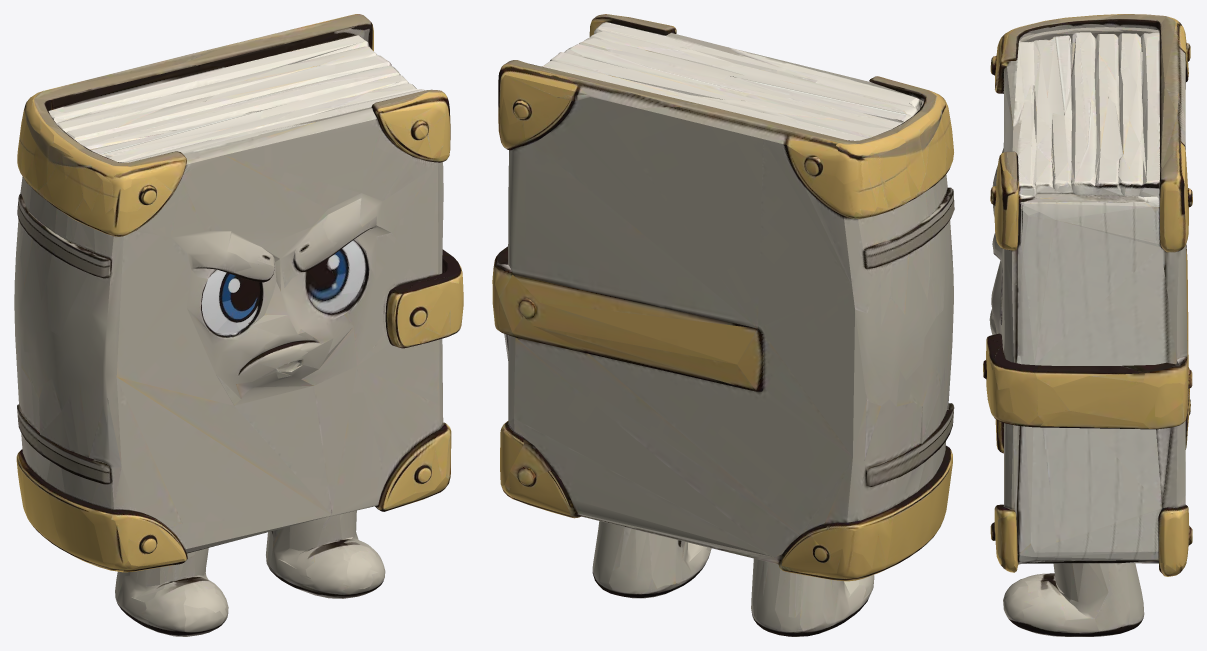
File: creep_hardcover.glb
3 views of the same model, side by side, from view 1: azimuth 30°, elevation 25°; view 2: azimuth 150°, elevation 25°; view 3: azimuth 270°, elevation 25° (orthographic). The views are drawn at different scales.
Bounding box in the file's own units: 1.51 × 1.9 × 0.7367.
1 material, 1 textured.
